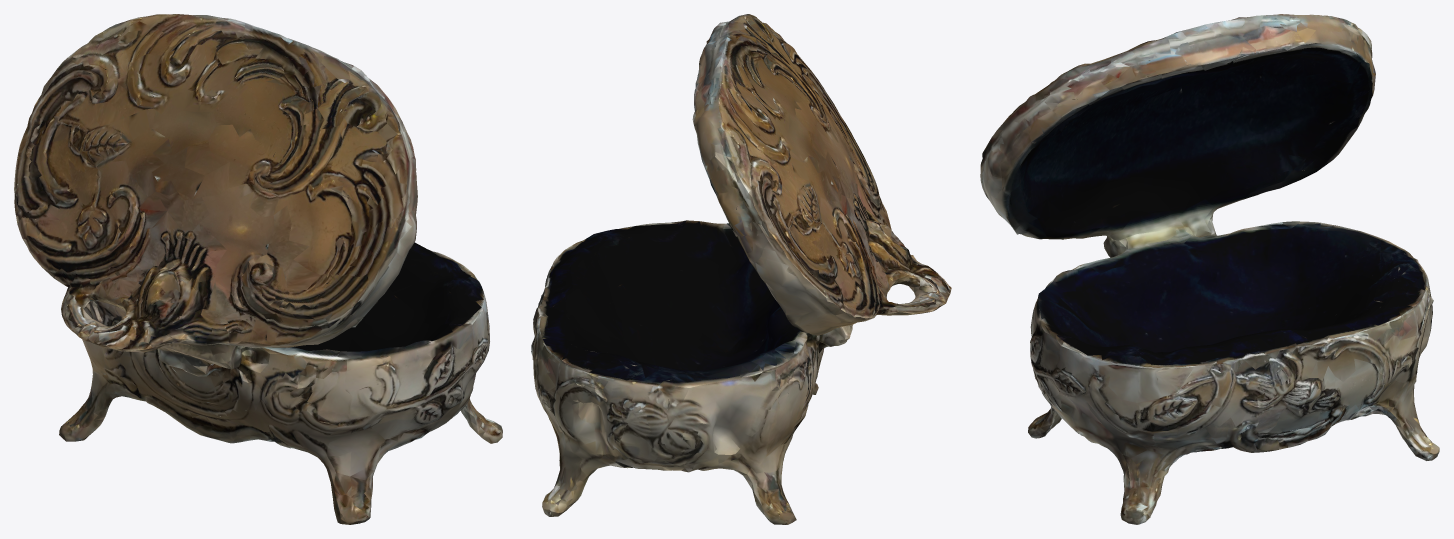
The model's file is silver_urn.glb.
3 views of the same model, side by side, from view 1: azimuth 30°, elevation 25°; view 2: azimuth 150°, elevation 25°; view 3: azimuth 270°, elevation 25° (orthographic). The views are drawn at different scales.
Parts seen in each view (by area): view 1: SilverUrn; view 2: SilverUrn; view 3: SilverUrn.
Part boxes in pixels (x1,y1,x2,y2): SilverUrn: (14,14,502,524); SilverUrn: (531,14,951,524); SilverUrn: (980,14,1439,524).
Size of the model in its own units: 0.2366 by 0.2359 by 0.24.
Materials: 1 (1 with a texture image).
